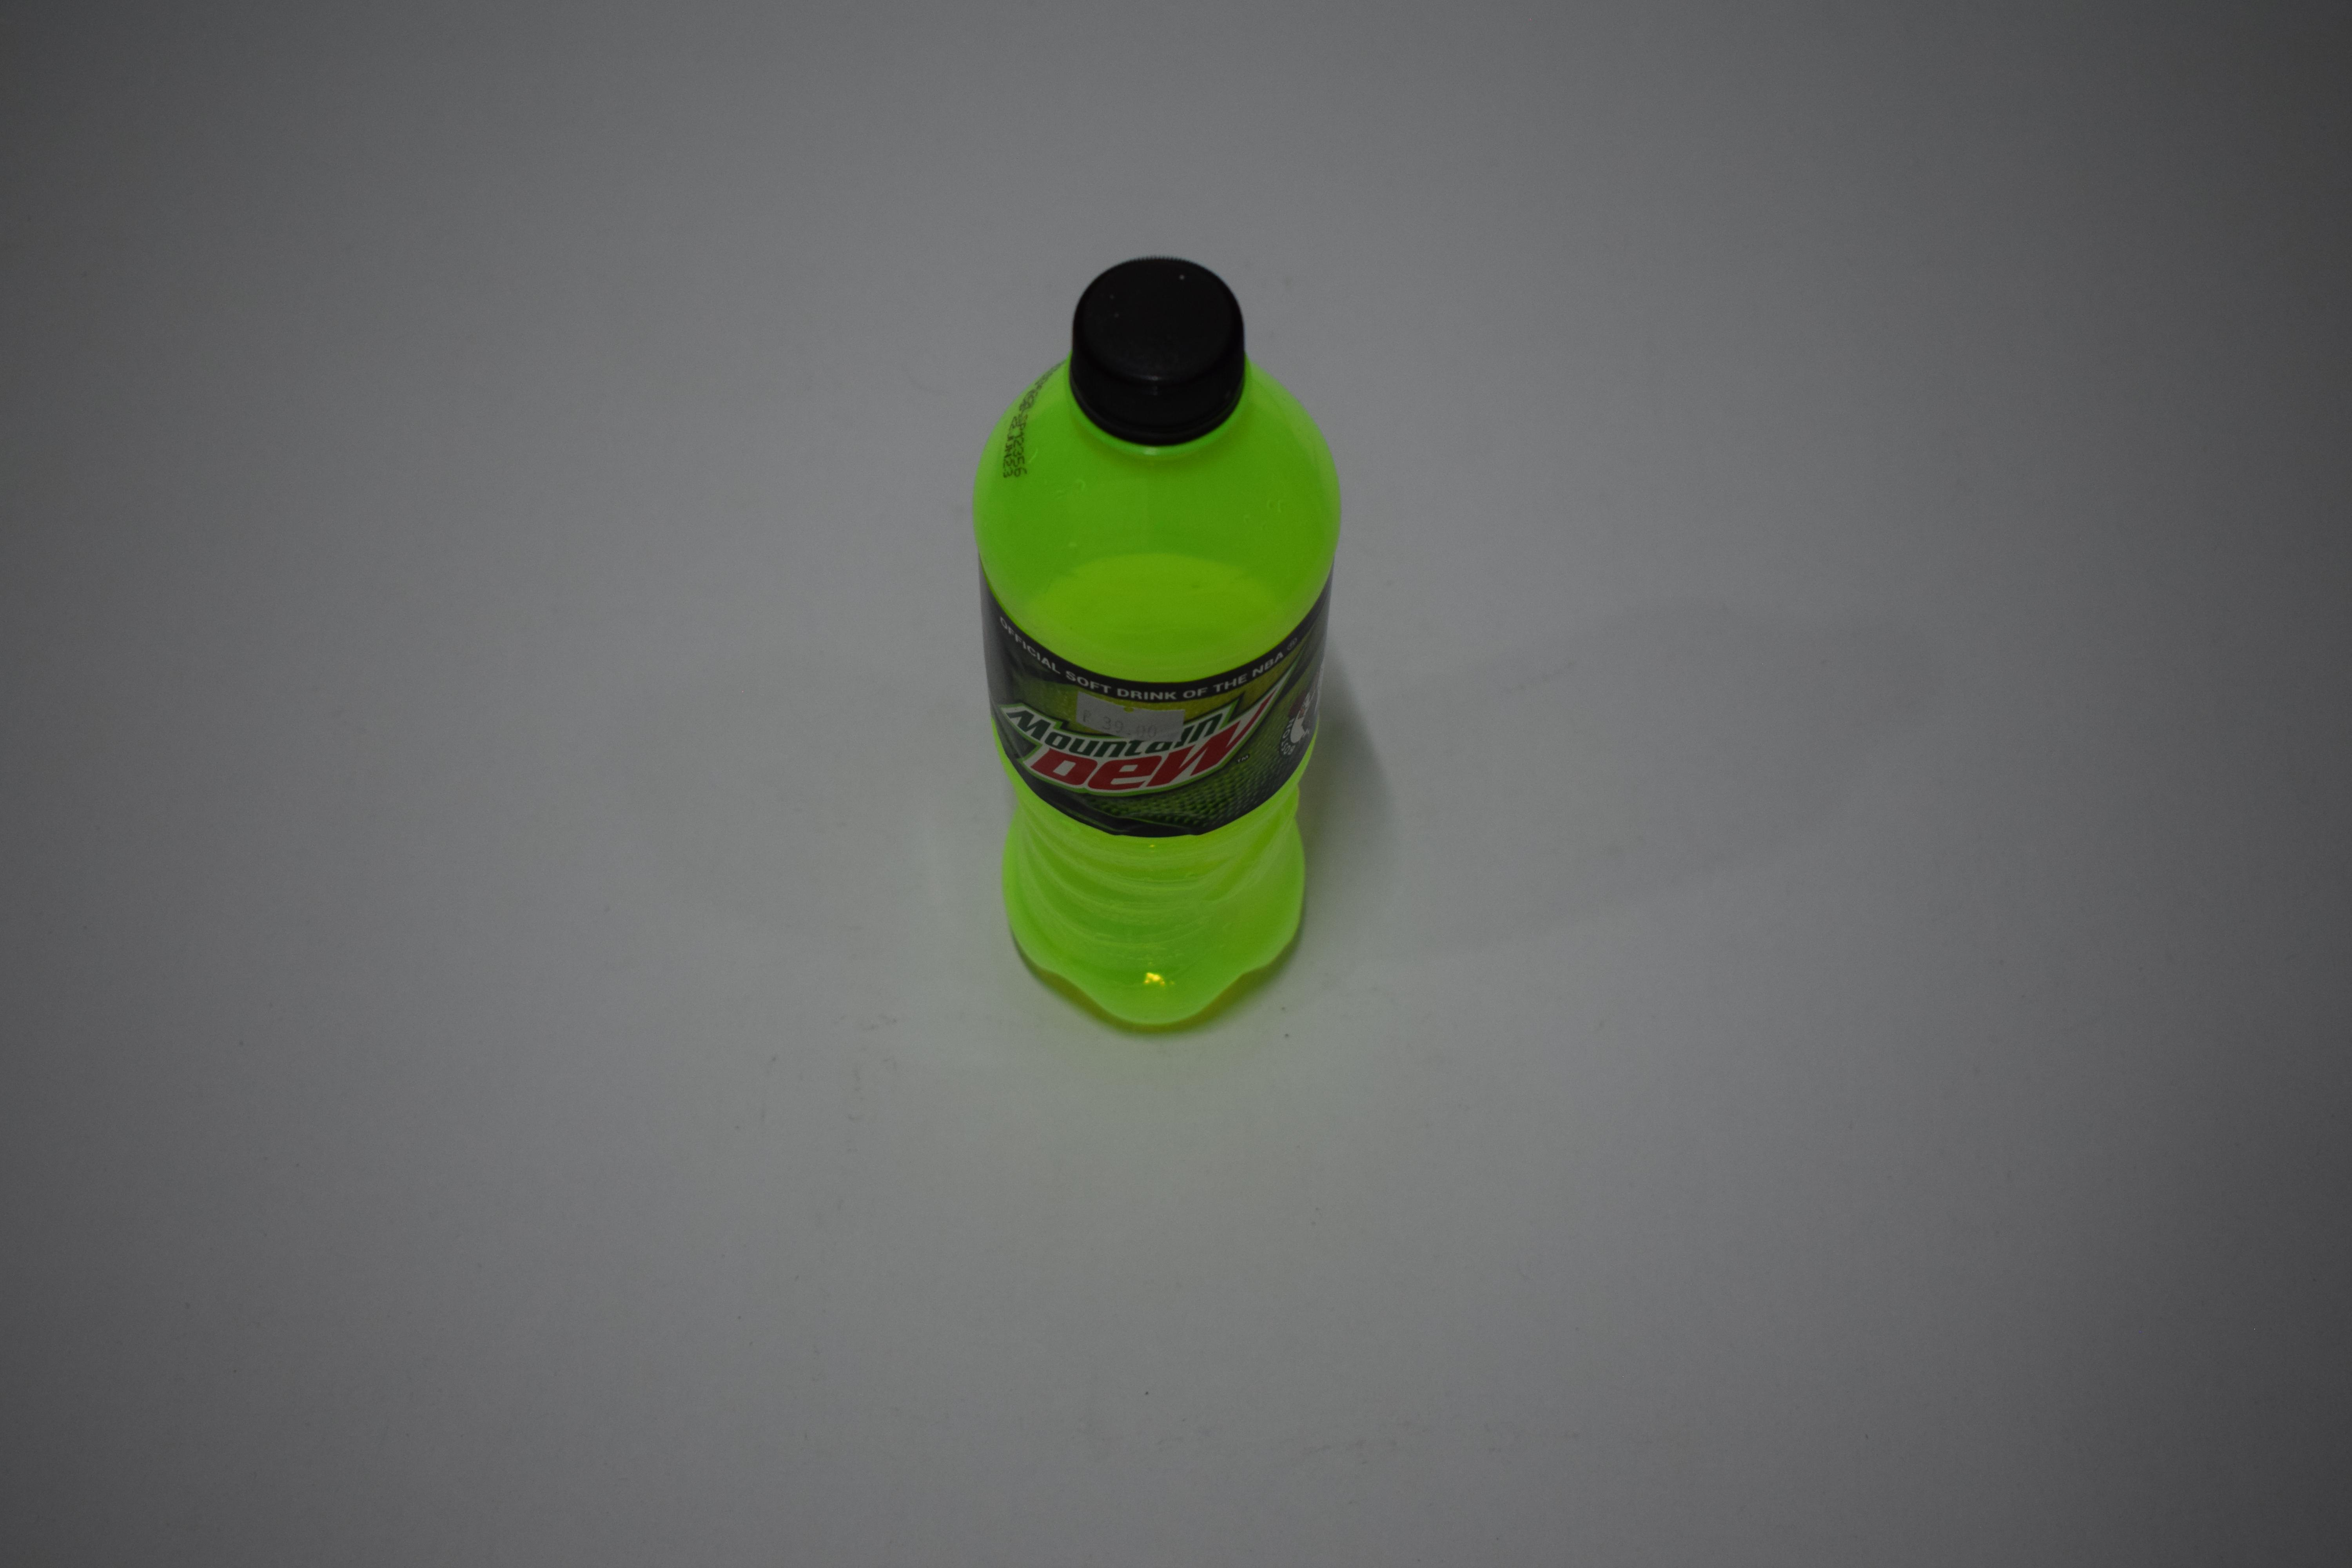bottle: (968, 639, 1347, 651)
